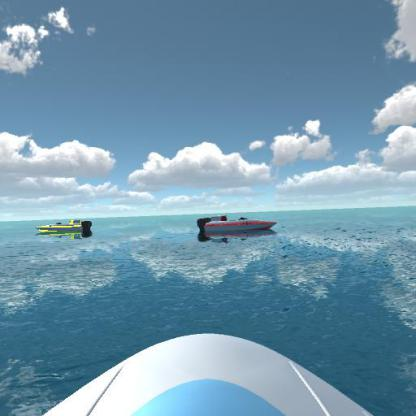usv2: (35, 216, 97, 245)
usv3: (192, 210, 281, 242)
